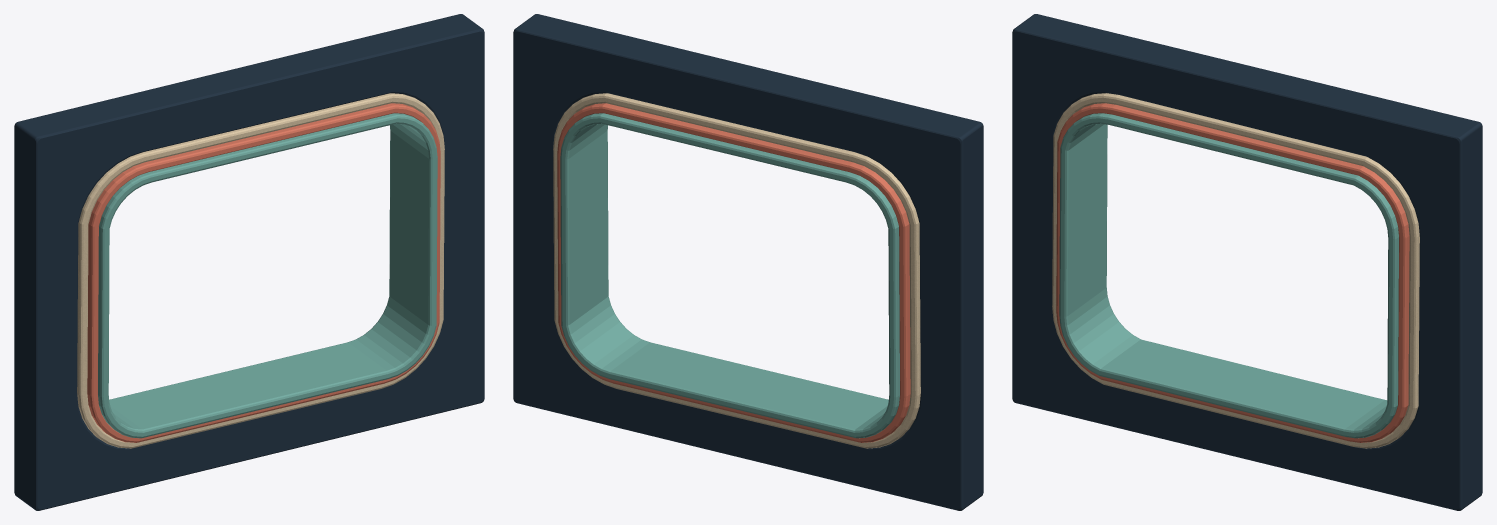
File: window-wall.glb
3 renders of one model, left to right at view 1: azimuth 30°, elevation 25°; view 2: azimuth 150°, elevation 25°; view 3: azimuth 330°, elevation 25°, orthographic.
Visible parts, largest first — view 1: Rear window (0, 0) wall, Rear window (0, 0) reveal 2, Rear window (0, 0) reveal 0, Rear window (0, 0) reveal 1; view 2: Rear window (0, 0) wall, Rear window (0, 0) reveal 2, Rear window (0, 0) reveal 0, Rear window (0, 0) reveal 1; view 3: Rear window (0, 0) wall, Rear window (0, 0) reveal 2, Rear window (0, 0) reveal 0, Rear window (0, 0) reveal 1.
Part boxes in pixels (box(x1,y1,x2,y2)): Rear window (0, 0) wall: box(14, 14, 484, 510); Rear window (0, 0) reveal 2: box(98, 113, 437, 438); Rear window (0, 0) reveal 0: box(77, 93, 444, 448); Rear window (0, 0) reveal 1: box(87, 103, 440, 442); Rear window (0, 0) wall: box(513, 14, 983, 510); Rear window (0, 0) reveal 2: box(560, 113, 899, 438); Rear window (0, 0) reveal 0: box(553, 93, 920, 448); Rear window (0, 0) reveal 1: box(557, 103, 910, 442); Rear window (0, 0) wall: box(1012, 14, 1482, 510); Rear window (0, 0) reveal 2: box(1059, 113, 1398, 438); Rear window (0, 0) reveal 0: box(1052, 93, 1419, 448); Rear window (0, 0) reveal 1: box(1056, 103, 1409, 442).
Size of the model in its own units: 4.4 by 3.5 by 0.7.
Materials: 4 (1 with a texture image).
